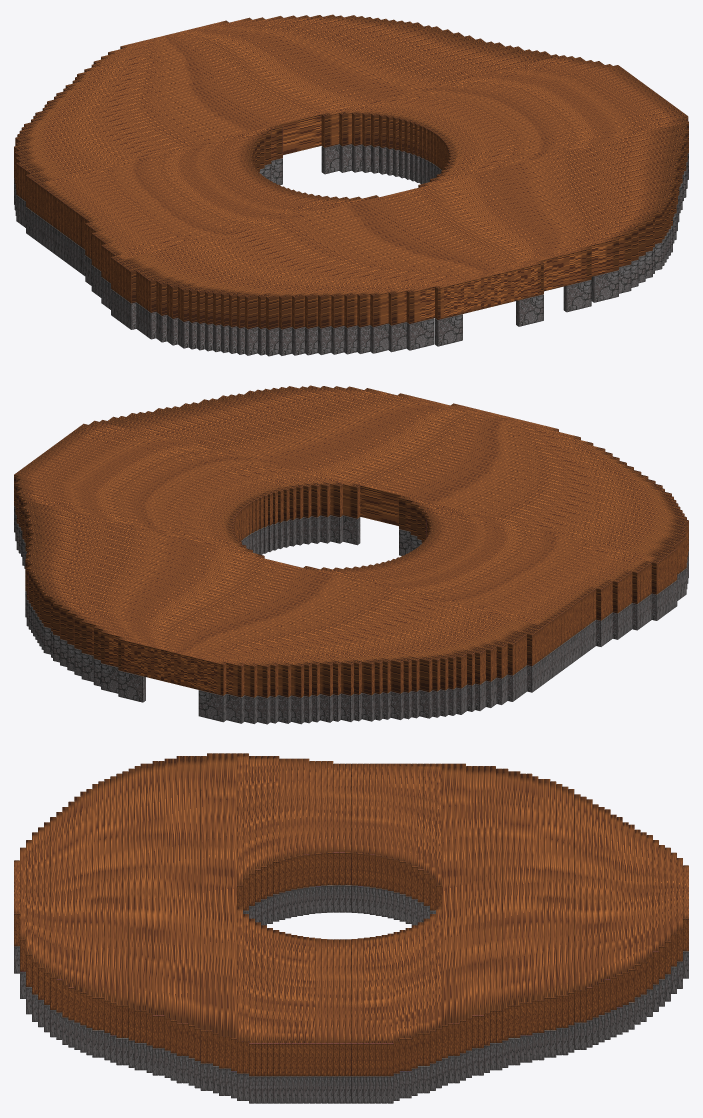
The model's file is env_island_body.fbx.
The picture shows the model from 3 angles, top to bottom: view 1: azimuth 30°, elevation 25°; view 2: azimuth 150°, elevation 25°; view 3: azimuth 270°, elevation 25°; orthographic projection. The views are drawn at different scales.
Parts seen in each view (by area): view 1: env_island_body_1, env_island_body; view 2: env_island_body, env_island_body_1; view 3: env_island_body, env_island_body_1.
Boxes of the visible parts, x1=… form: env_island_body_1: x1=100, y1=101, x2=688, y2=356; env_island_body: x1=14, y1=14, x2=667, y2=297; env_island_body: x1=14, y1=438, x2=626, y2=724; env_island_body_1: x1=63, y1=385, x2=688, y2=633; env_island_body: x1=291, y1=758, x2=688, y2=1103; env_island_body_1: x1=14, y1=753, x2=291, y2=1103.
Bounding box in the file's own units: 456 × 44 × 448.
2 materials, 1 textured.
